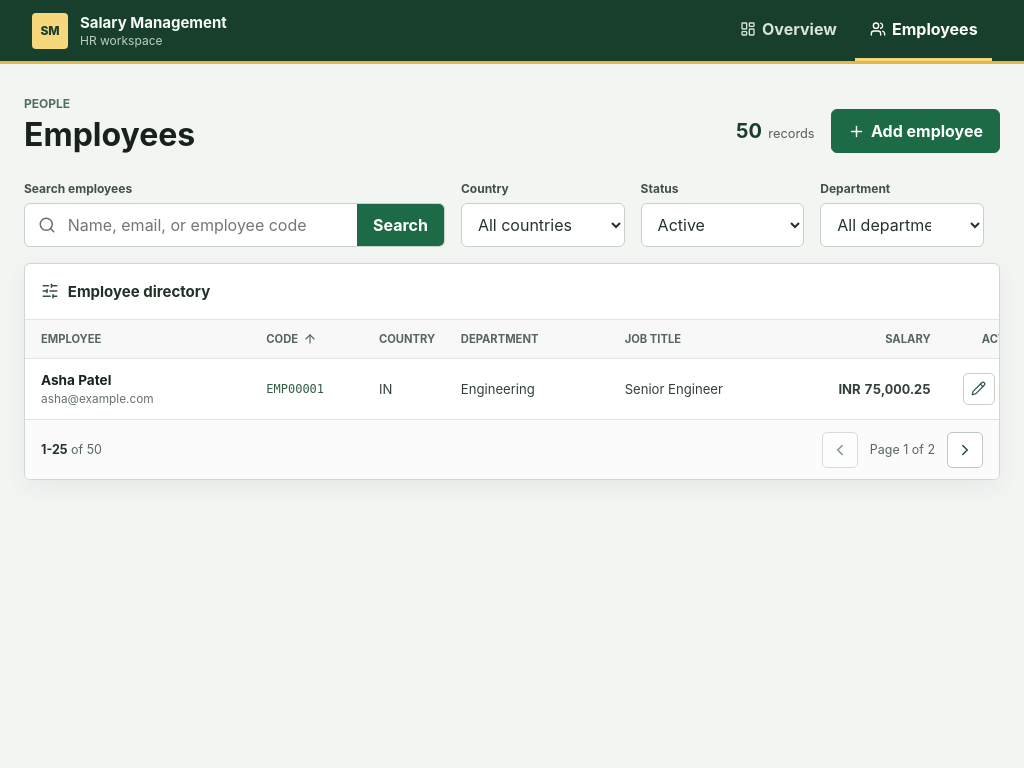
it: updates native salary and refetches the directory
The width and height of the screenshot is (1024, 768).
Expected: the text "Asha Patel" is shown, x1=41 y1=372 x2=111 y2=388
Click the button named "Edit salary for Asha Patel": [979, 389] box x1=963 y1=373 x2=995 y2=405
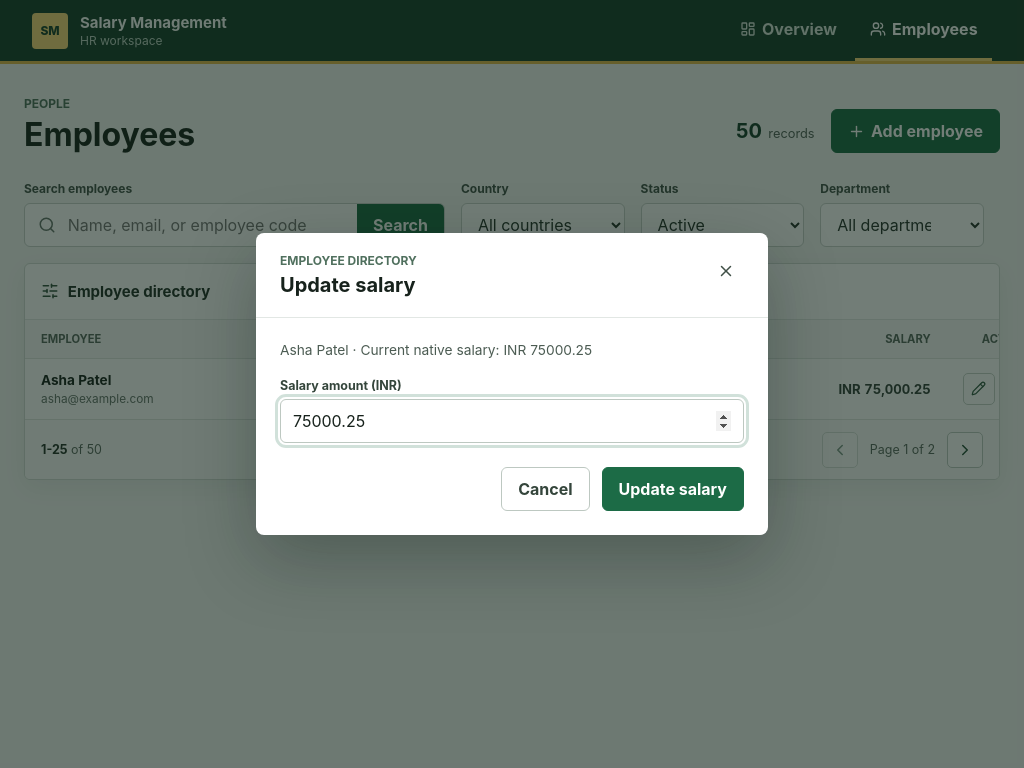
Now the text "Asha Patel · Current native salary: INR 75000.25" is shown, box x1=280 y1=342 x2=592 y2=358
Replace the text in the number field labelled "Salary amount (INR)" with "81234.56": [512, 422] box x1=280 y1=400 x2=744 y2=444
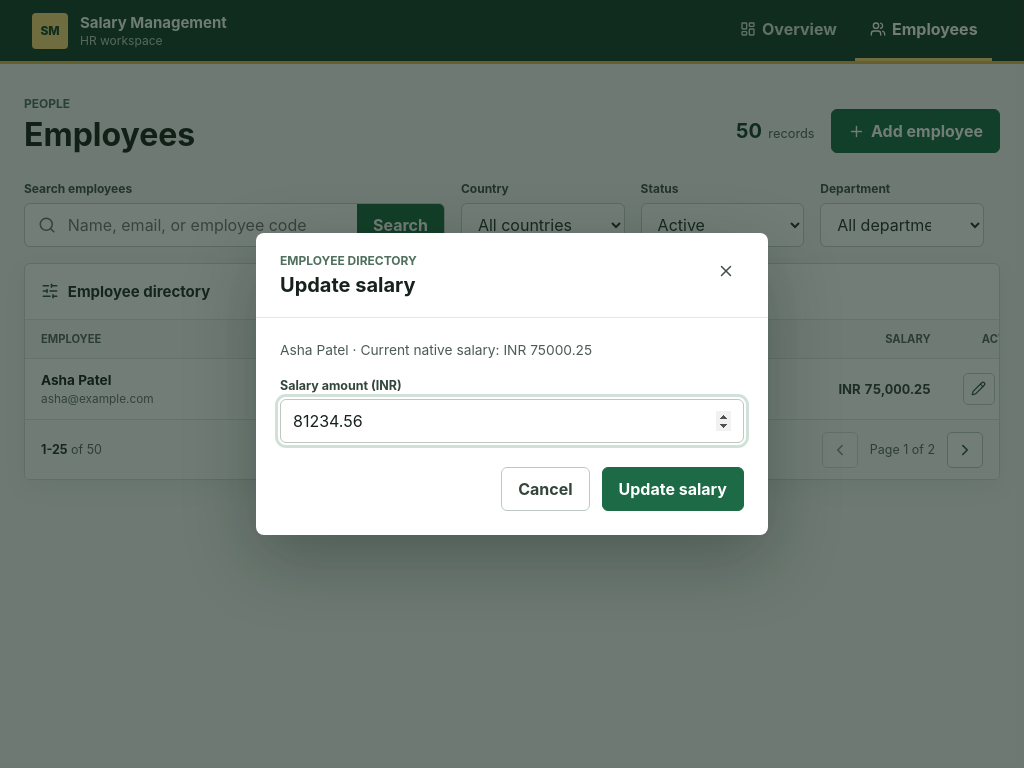
Click the button "Update salary": [673, 490] box x1=602 y1=468 x2=744 y2=512
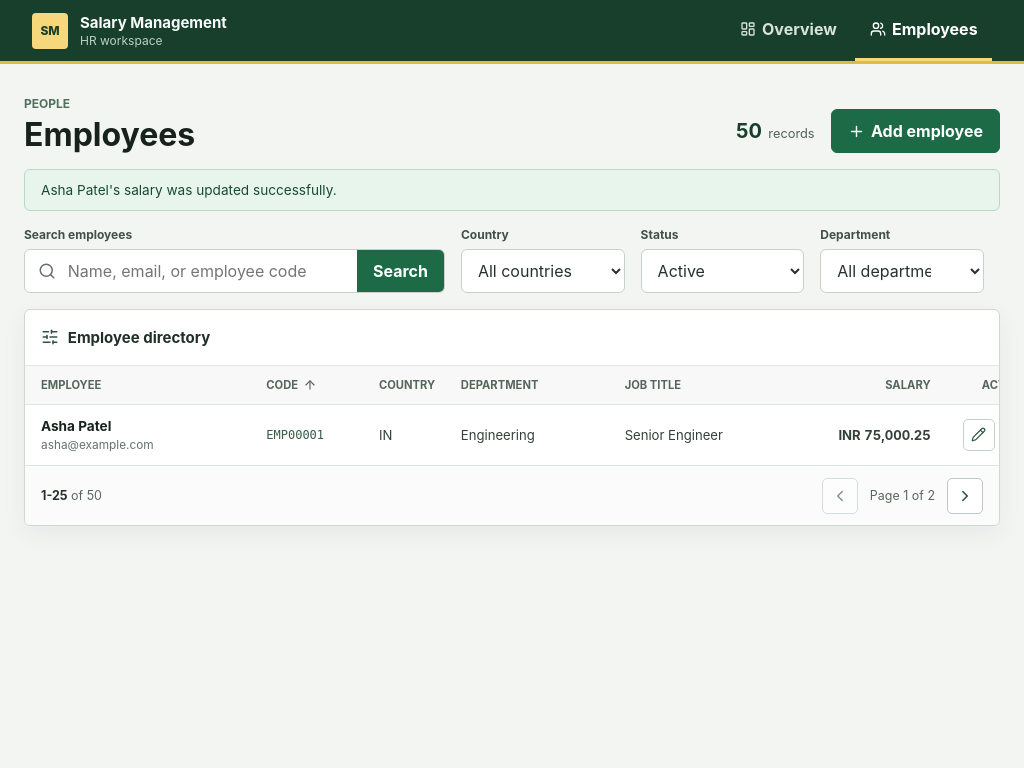
Now the message shows "salary was updated successfully", box x1=41 y1=182 x2=337 y2=198
